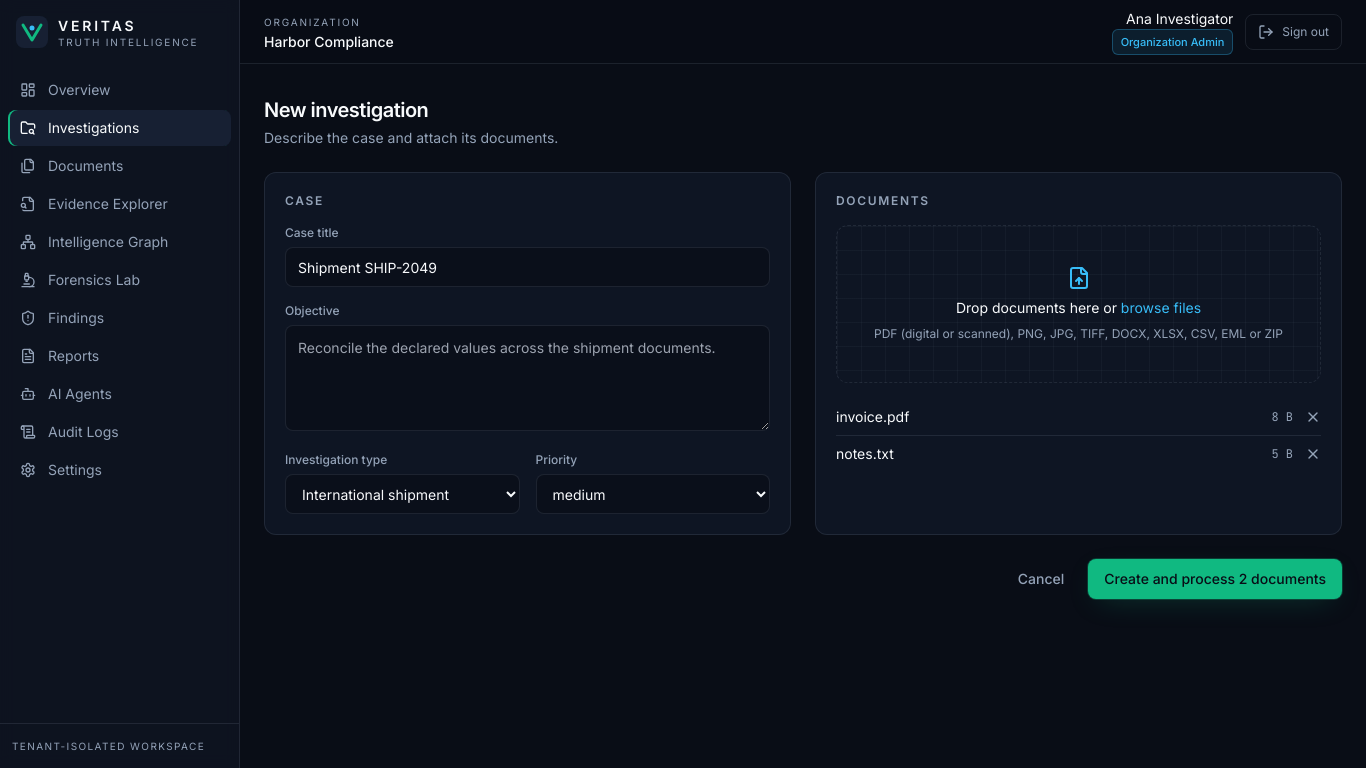
Test: creating an investigation uploads the chosen files as multipart
Earlier steps of the test are not shown.
Check: the list named "Files to upload" shows "invoice.pdf", box [836, 408, 909, 425]
Click the button "Create and process 2 documents".
click(1215, 579)  # box [1088, 559, 1342, 599]
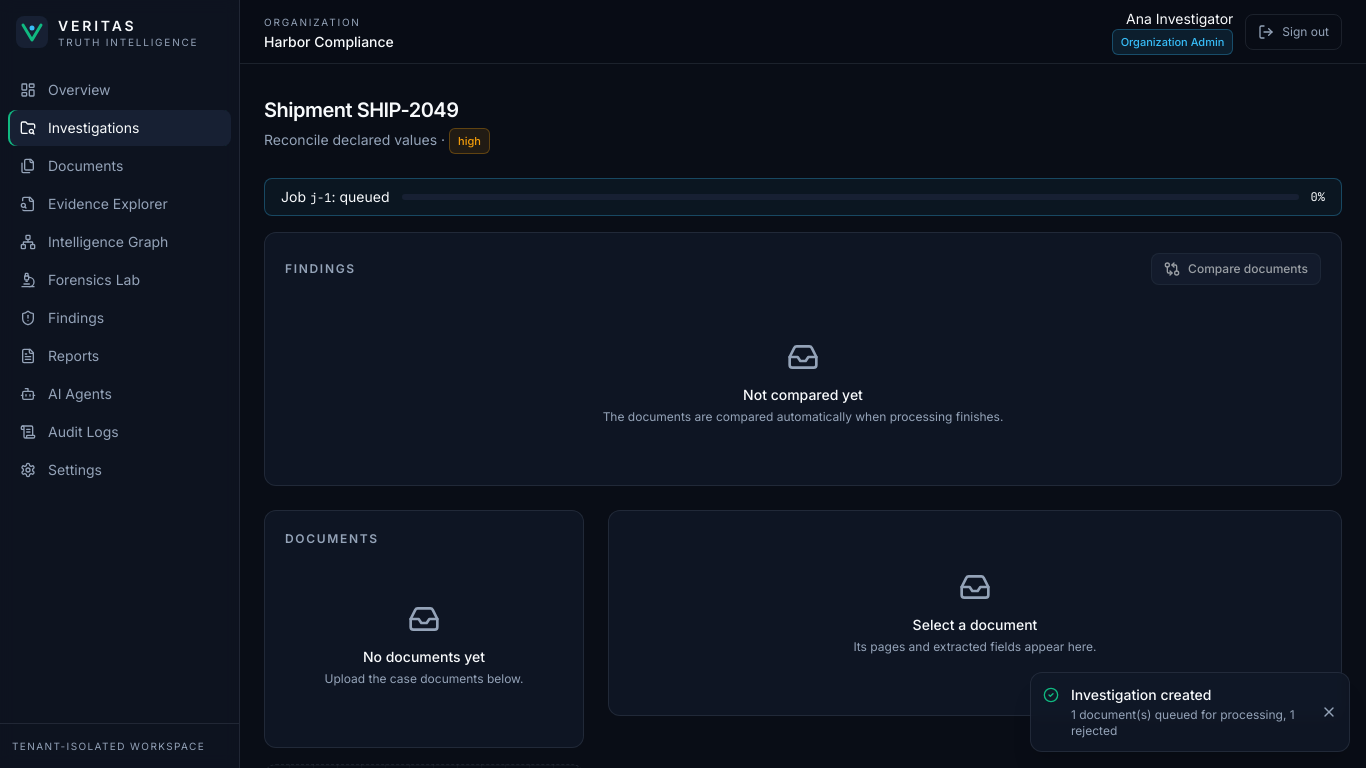
Check: the text "1 document(s) queued for processing, 1 rejected" is shown, box [1071, 707, 1309, 739]
